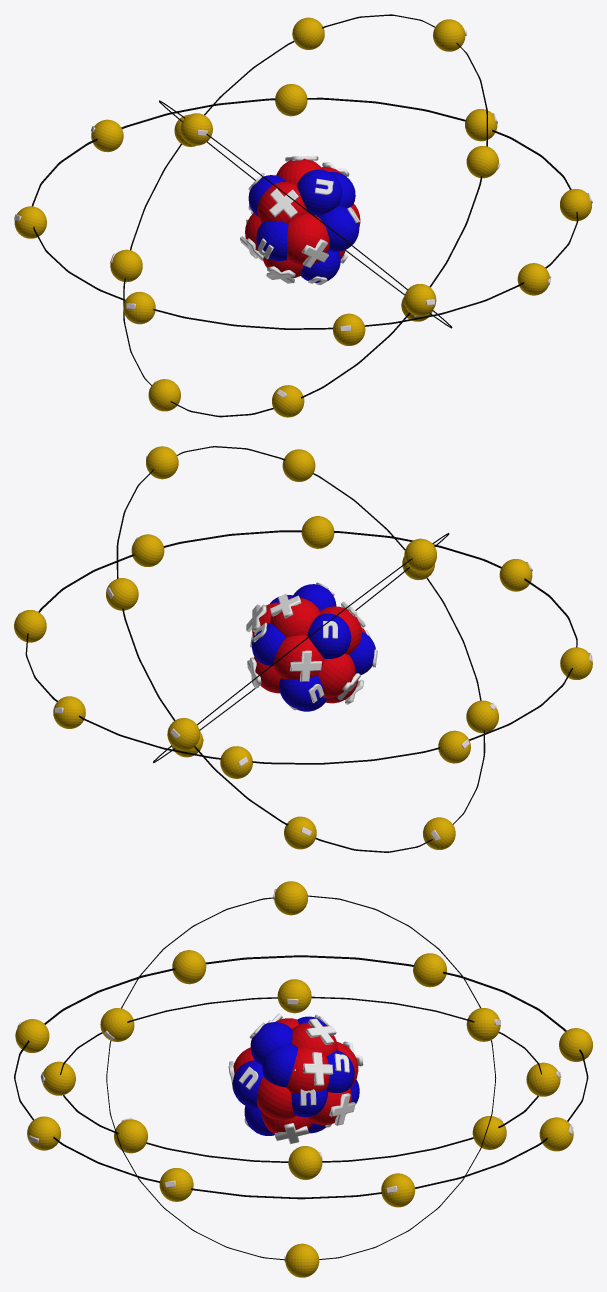
The picture shows the model from 3 angles, top to bottom: view 1: azimuth 30°, elevation 25°; view 2: azimuth 150°, elevation 25°; view 3: azimuth 270°, elevation 25°; orthographic projection. The views are drawn at different scales.
Parts seen in each view (by area): view 1: Circle.002, Circle.001, Sphere.025, Sphere.008, Sphere.012, Sphere.014, Sphere.018, Sphere.016, Sphere.023, Sphere.026, Sphere.033, Sphere.013 (+16 smaller); view 2: Circle.002, Circle.001, Sphere.015, Sphere.005, Sphere.011, Sphere.007, Sphere.022, Sphere.037, Sphere.013, Sphere.003, Sphere.031, Sphere.026 (+18 smaller); view 3: Circle.002, Circle.001, Circle, Sphere, Sphere.024, Sphere.008, Sphere.030, Sphere.002, Sphere.016, Sphere.036, Sphere.003, Sphere.035 (+20 smaller).
Part boxes in pixels (x1,y1,x2,y2): Circle.002: (32, 97, 578, 329); Circle.001: (123, 14, 487, 417); Sphere.025: (287, 213, 329, 265); Sphere.008: (297, 169, 341, 215); Sphere.012: (317, 206, 359, 251); Sphere.014: (257, 181, 308, 222); Sphere.018: (256, 221, 288, 261); Sphere.016: (148, 379, 180, 411); Sphere.023: (292, 17, 324, 49); Sphere.026: (433, 19, 465, 51); Sphere.033: (275, 84, 307, 116); Sphere.013: (466, 146, 498, 178); Circle.002: (25, 530, 577, 764); Circle.001: (116, 446, 485, 852); Sphere.015: (307, 613, 351, 658); Sphere.005: (273, 635, 324, 679); Sphere.011: (318, 653, 355, 697); Sphere.007: (270, 598, 320, 637); Sphere.022: (279, 675, 323, 709); Sphere.037: (131, 534, 164, 566); Sphere.013: (282, 449, 315, 481); Sphere.003: (404, 538, 436, 571); Sphere.031: (301, 516, 334, 548); Sphere.026: (146, 446, 178, 479); Circle.002: (14, 955, 588, 1199); Circle.001: (60, 996, 541, 1162); Circle: (106, 895, 496, 1260); Sphere: (256, 1076, 296, 1119); Sphere.024: (262, 1044, 297, 1087); Sphere.008: (250, 1022, 292, 1064); Sphere.030: (286, 1047, 329, 1093); Sphere.002: (285, 1243, 319, 1277); Sphere.016: (288, 1146, 322, 1179); Sphere.036: (172, 950, 206, 984); Sphere.003: (274, 881, 307, 915); Sphere.035: (413, 953, 446, 987).
Size of the model in its own units: 84.82 by 55.5 by 85.5.
